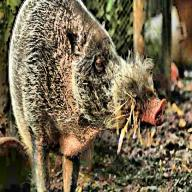boar: (12, 0, 171, 182)
